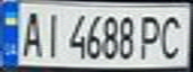4: (63, 9, 87, 60)
6: (84, 11, 106, 61)
8: (115, 12, 139, 61), (100, 11, 121, 61)
A: (15, 7, 45, 58)
C: (154, 11, 190, 61)
I: (39, 7, 66, 60)
P: (136, 11, 166, 61)
